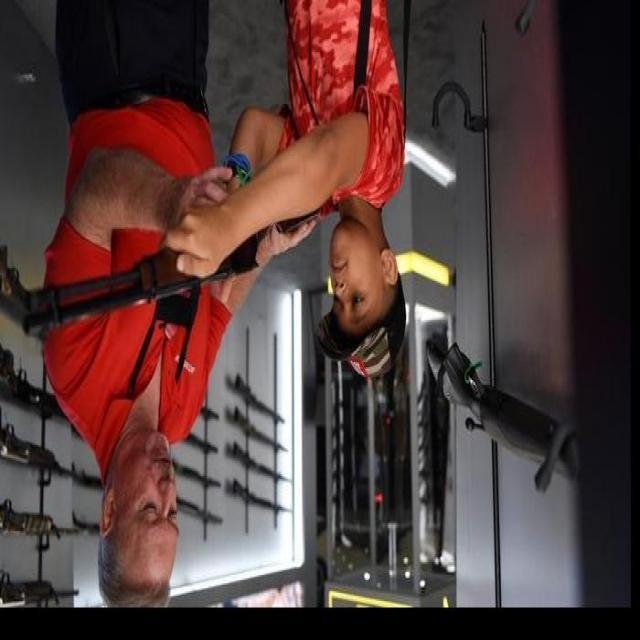weapon: (17, 213, 317, 334)
